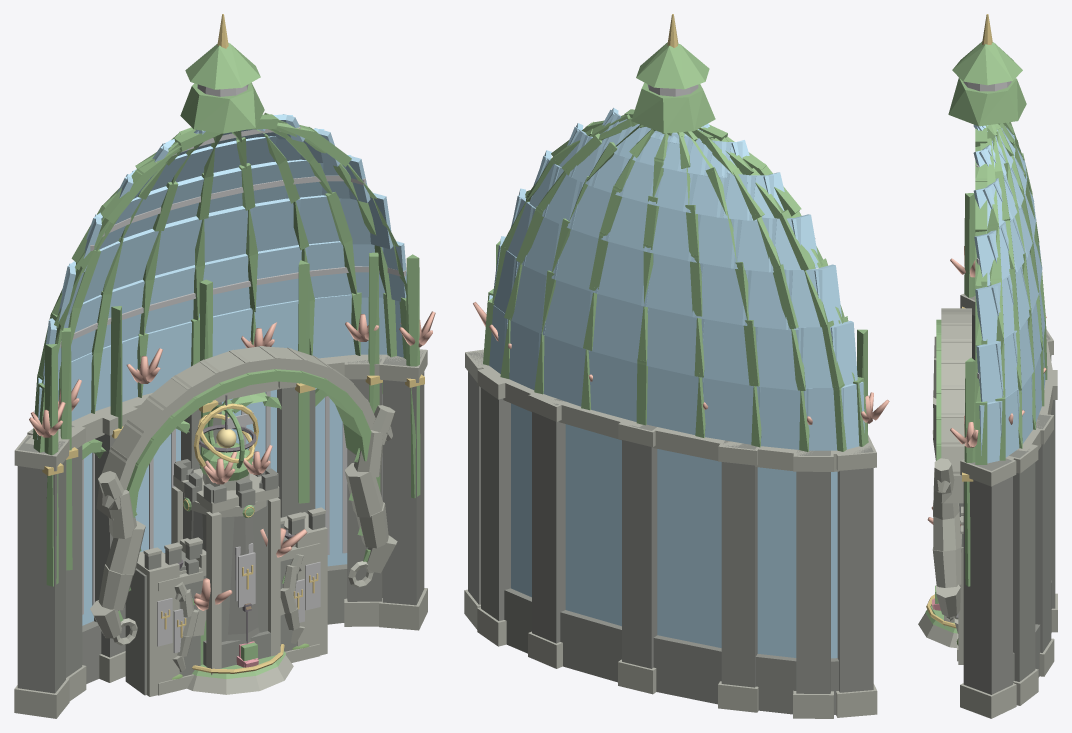
The model's file is SunkenF39Kit.fbx.
3 renders of one model, left to right at view 1: azimuth 30°, elevation 25°; view 2: azimuth 150°, elevation 25°; view 3: azimuth 270°, elevation 25°, orthographic. The views are drawn at different scales.
Visible parts, largest first — view 1: PearlVaultDome__CRYSTAL, PearlVaultDome__ACCENT, PearlVaultDome__STONE, PearlVaultDome__TRIM, DrownedGateWall__TRIM, PearlVaultDome__CANDLE, TideArmillaryTower__TRIM, TideArmillaryTower__STONE, DrownedGateWall__STONE, CoralGateTower__STONE, PearlVaultDome__CORAL, CoralGateTower__CORAL (+11 smaller); view 2: PearlVaultDome__CRYSTAL, PearlVaultDome__STONE, PearlVaultDome__ACCENT, PearlVaultDome__TRIM, PearlVaultDome__CORAL; view 3: PearlVaultDome__STONE, PearlVaultDome__ACCENT, PearlVaultDome__TRIM, PearlVaultDome__CRYSTAL, PearlVaultDome__CORAL, DrownedGateWall__TRIM, ColossalClam__TRIM, PearlVaultDome__CANDLE, PearlVaultDome__GOLD, ColossalClam__ACCENT.
Part boxes in pixels (x1,y1,x2,y2): PearlVaultDome__CRYSTAL: (37,114,406,625); PearlVaultDome__ACCENT: (32,43,420,621); PearlVaultDome__STONE: (17,351,424,693); PearlVaultDome__TRIM: (14,346,427,718); DrownedGateWall__TRIM: (136,507,327,696); PearlVaultDome__CANDLE: (59,84,405,614); TideArmillaryTower__TRIM: (172,468,280,674); TideArmillaryTower__STONE: (174,456,278,667); DrownedGateWall__STONE: (125,513,325,695); CoralGateTower__STONE: (184,467,267,664); PearlVaultDome__CORAL: (29,311,435,437); CoralGateTower__CORAL: (194,444,307,610); PearlVaultDome__CRYSTAL: (489,108,864,658); PearlVaultDome__STONE: (468,351,873,714); PearlVaultDome__ACCENT: (483,42,868,451); PearlVaultDome__TRIM: (464,349,877,718); PearlVaultDome__CORAL: (473,302,889,424); PearlVaultDome__STONE: (963,295,1055,694); PearlVaultDome__ACCENT: (936,41,1047,586); PearlVaultDome__TRIM: (932,294,1057,718); PearlVaultDome__CRYSTAL: (973,124,1045,463); PearlVaultDome__CORAL: (950,246,1046,447); DrownedGateWall__TRIM: (954,506,963,664); ColossalClam__TRIM: (918,613,956,647); PearlVaultDome__CANDLE: (963,81,1011,378); PearlVaultDome__GOLD: (962,14,992,481); ColossalClam__ACCENT: (925,604,957,633).
Size of the model in its own units: 145 by 218 by 45.3.
